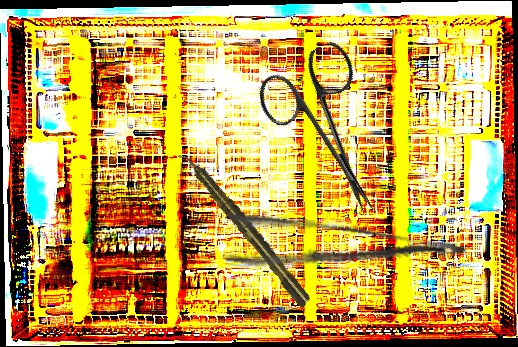Dressing Forceps: (223, 208, 468, 298)
Handpiece: (176, 146, 314, 310)
Iris Scissors: (249, 37, 415, 233)
